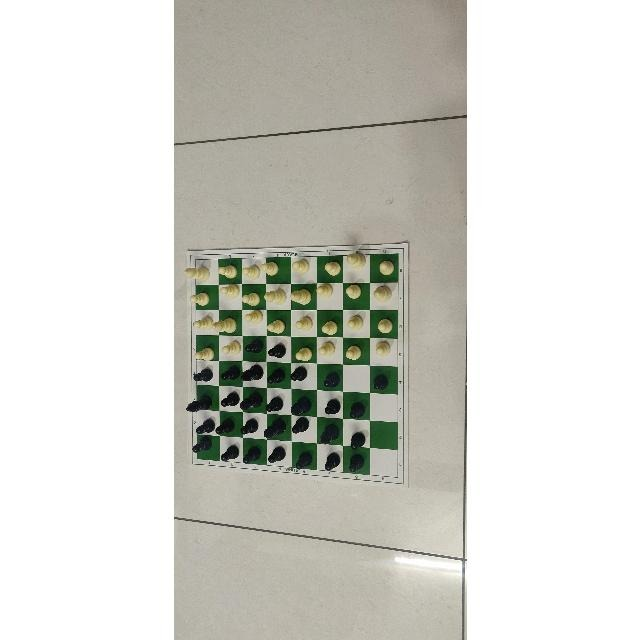black-bishop: (318, 423, 341, 446), (239, 363, 262, 385), (185, 395, 212, 413), (261, 419, 286, 438), (238, 391, 264, 409), (289, 397, 313, 415)
black-pawn: (345, 431, 368, 451), (214, 417, 238, 436), (347, 451, 365, 475), (347, 399, 367, 420), (371, 372, 390, 394), (321, 396, 341, 416), (289, 364, 310, 383), (264, 395, 286, 413), (294, 449, 312, 471), (191, 437, 213, 455), (239, 417, 259, 436), (219, 365, 240, 383), (291, 417, 310, 436), (266, 368, 286, 386), (219, 391, 239, 409), (322, 452, 340, 472), (243, 338, 262, 356), (267, 340, 285, 359), (322, 370, 340, 389), (266, 446, 285, 464), (242, 445, 261, 463), (193, 367, 213, 384), (195, 417, 213, 434), (220, 444, 238, 460)
white-bishop: (183, 260, 209, 286), (288, 286, 314, 306), (212, 315, 240, 333), (261, 289, 287, 307), (371, 286, 392, 304), (345, 252, 365, 270)
white-pawn: (372, 259, 396, 280), (215, 261, 240, 281), (343, 313, 365, 335), (317, 317, 340, 337), (194, 342, 218, 361), (343, 283, 367, 302), (374, 340, 394, 362), (192, 313, 214, 333), (314, 281, 336, 301), (187, 290, 210, 309), (264, 318, 288, 336), (290, 256, 312, 275), (292, 315, 315, 333), (373, 316, 393, 336), (321, 258, 341, 278), (240, 263, 262, 281), (259, 260, 281, 278), (239, 290, 263, 306), (220, 338, 239, 358), (219, 282, 239, 301), (316, 340, 337, 358), (242, 308, 263, 326), (293, 344, 313, 361), (345, 345, 365, 361)
